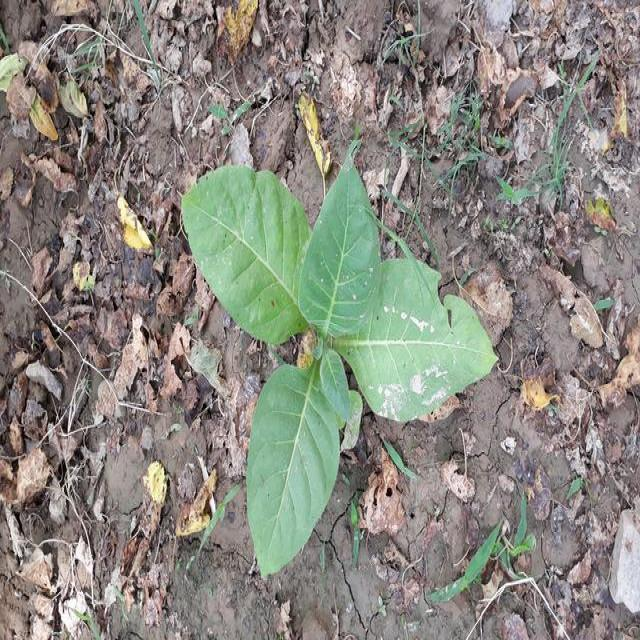crop: (180, 160, 503, 582)
